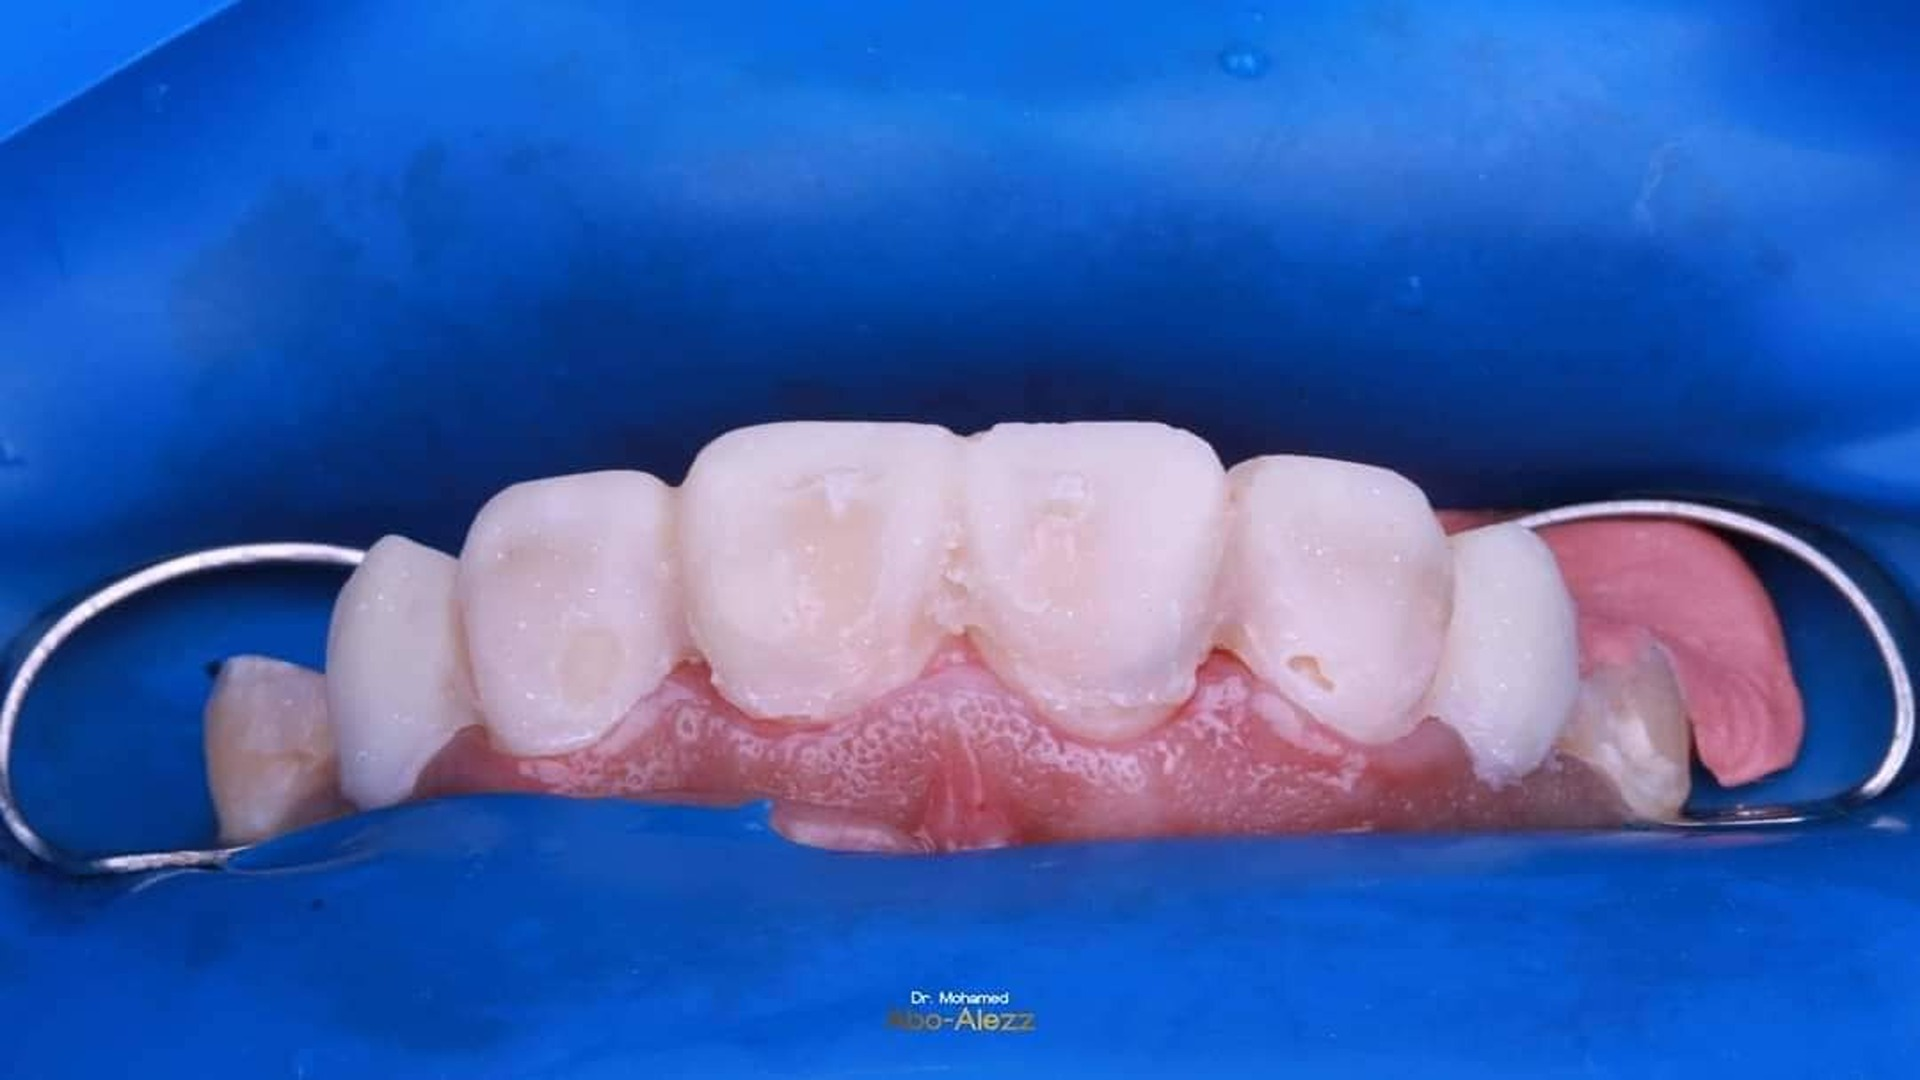tooth: (676, 421, 957, 725), (963, 422, 1222, 746), (1217, 454, 1455, 744), (458, 469, 690, 757), (327, 534, 483, 811), (1433, 522, 1580, 781), (204, 655, 335, 847), (1553, 642, 1691, 814)
